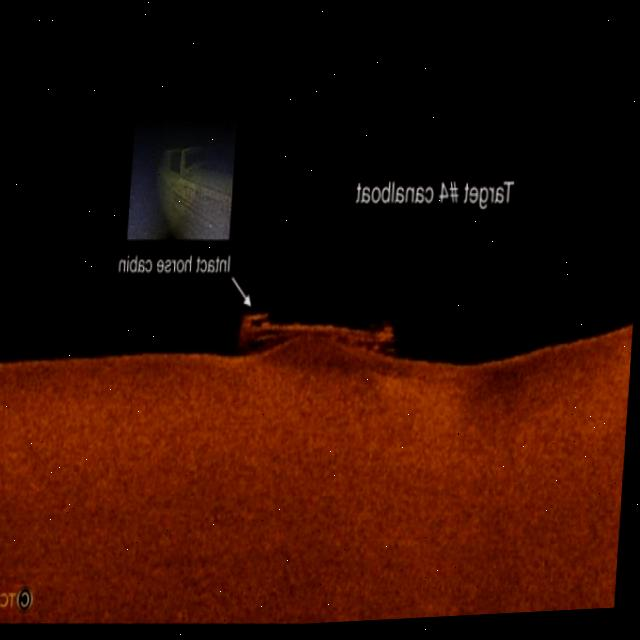shipwreck: (235, 297, 409, 373)
